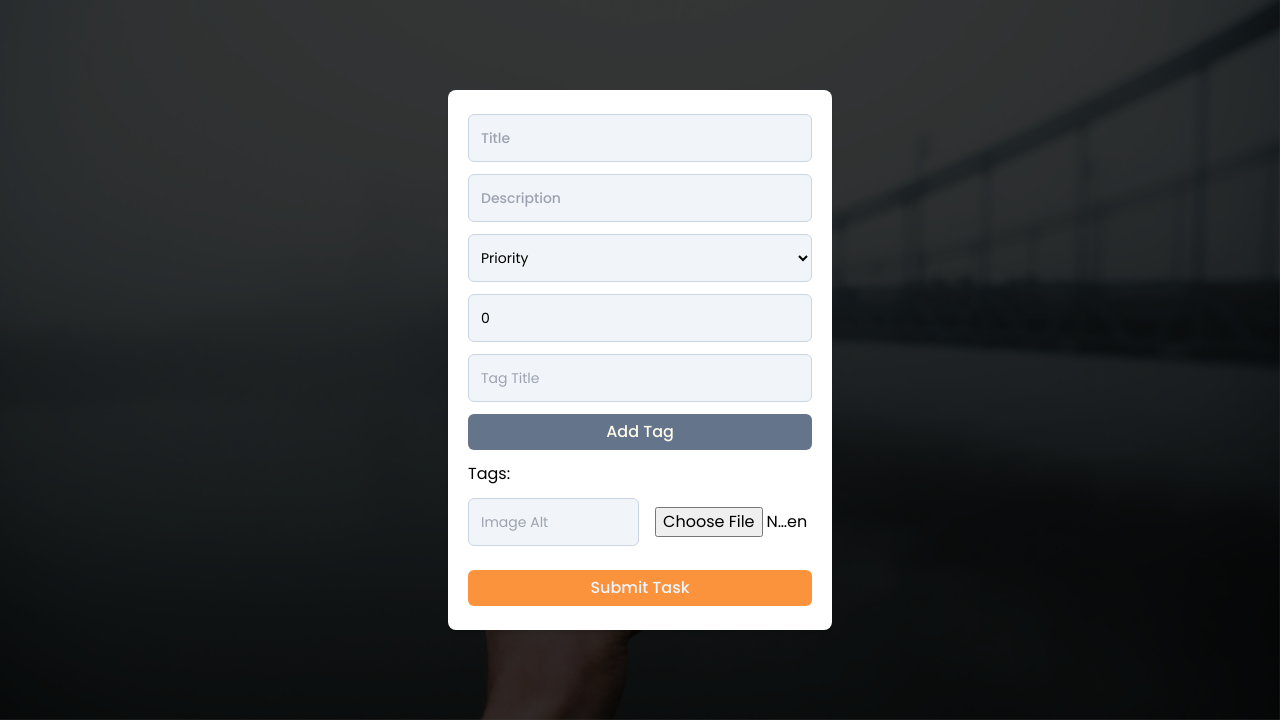
Test: AddModal Component › Tag Management › should add a new tag when tag title is entered and Add Tag button is clicked
In the field with test id "tag-input": (640, 378) [468,354,812,402], type "Important"
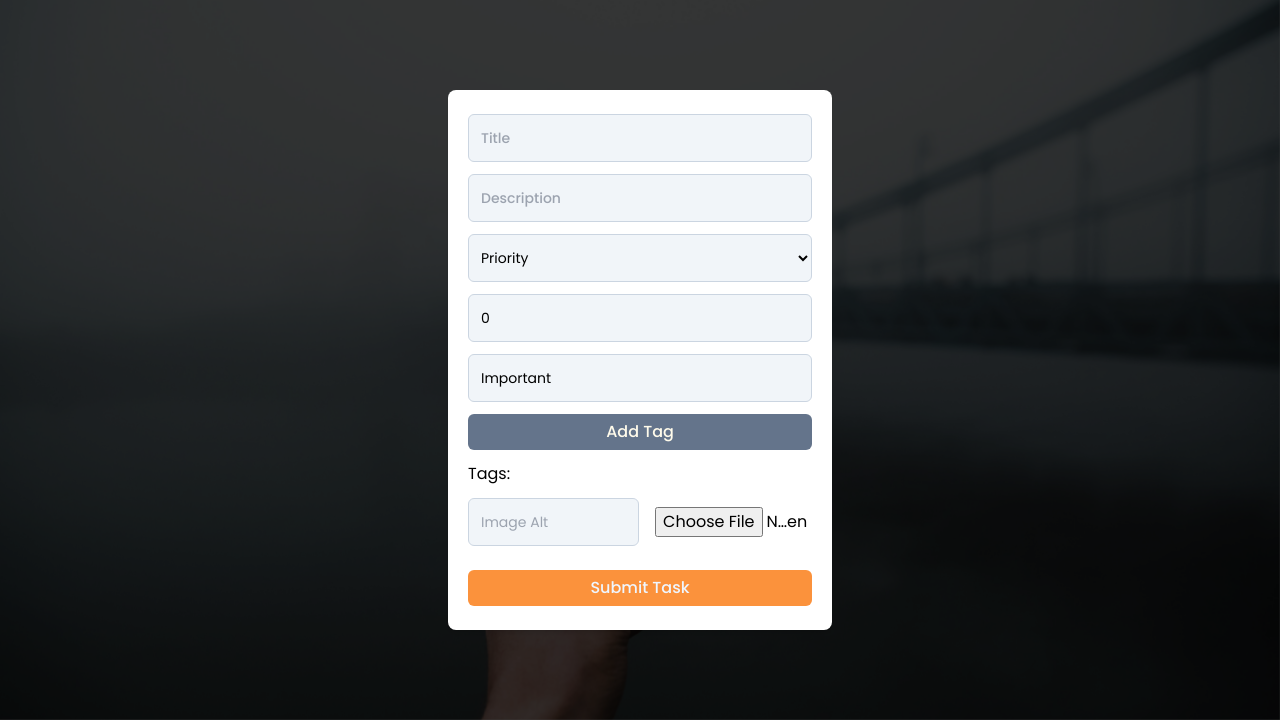
Click the button with test id "add-tag-button": (640, 432) [468,414,812,450]
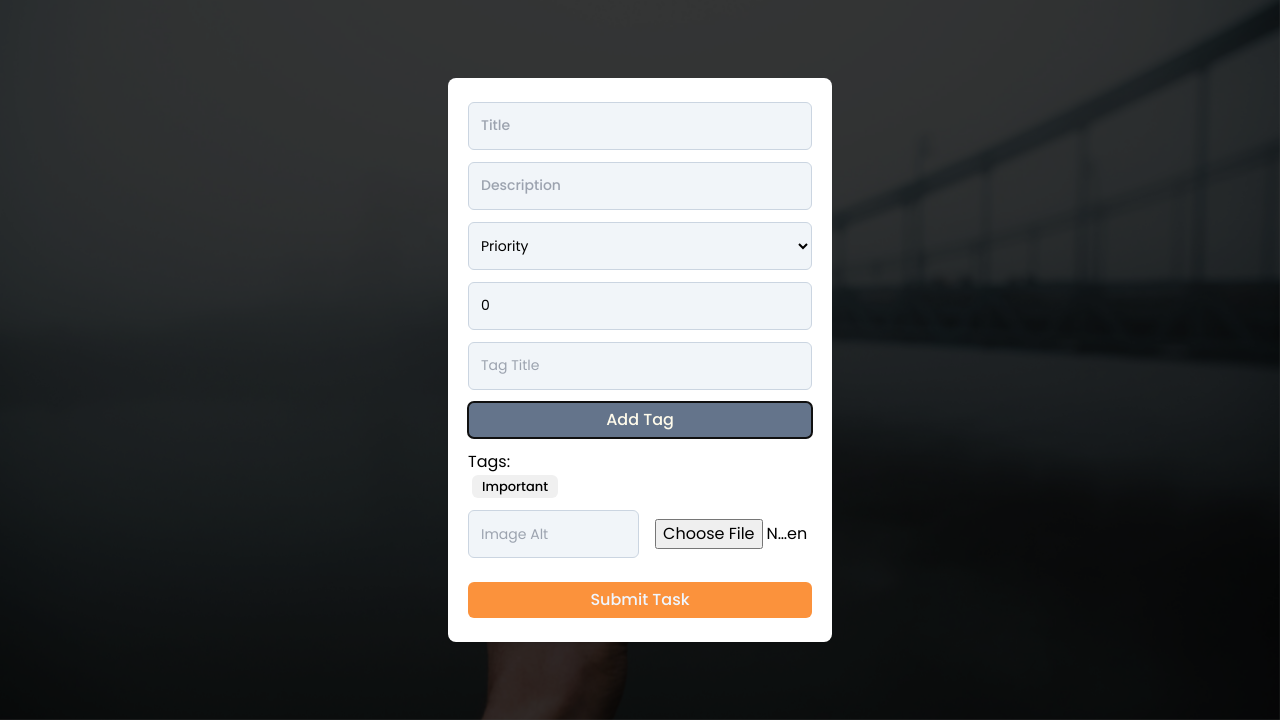
Check: the text "Important" is shown, box [472,475,558,498]
Check: the text with test id "tag-Important" reads "Important", box [482,477,548,496]
